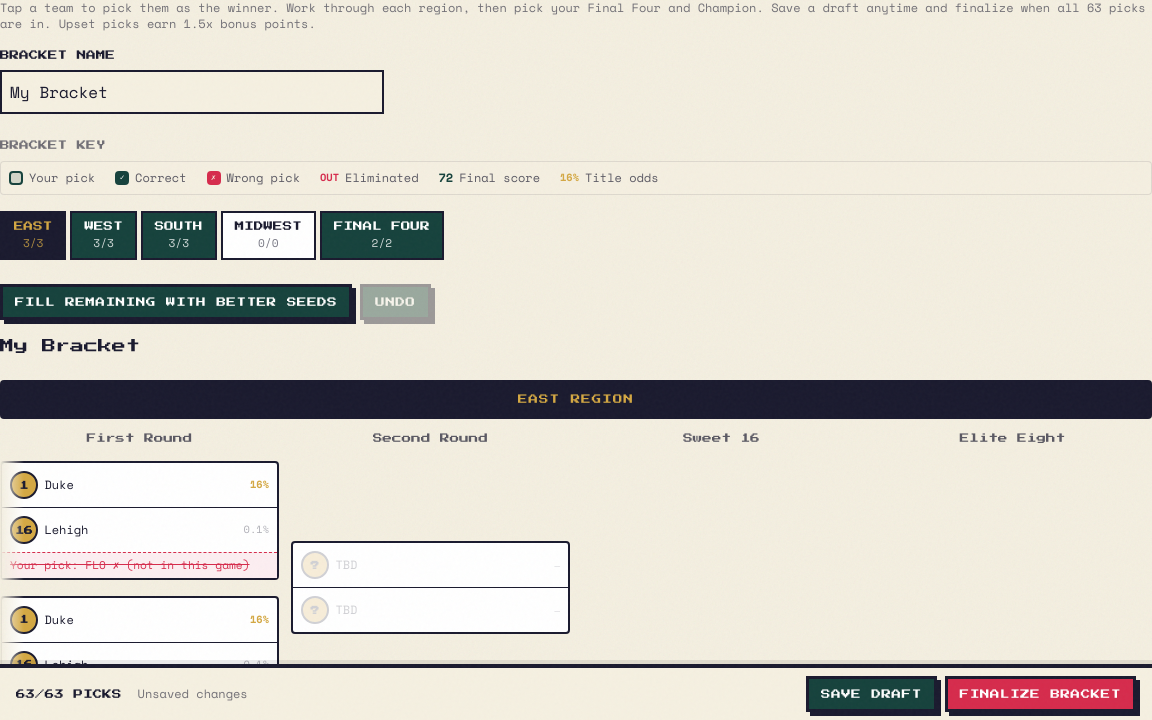
Test case: BracketBuilder › Finalize button opens confirmation dialog instead of saving directly
This screenshot has width=1152, height=720.
Click the button "Finalize Bracket" at (1040, 694), box [945,676,1136,712]
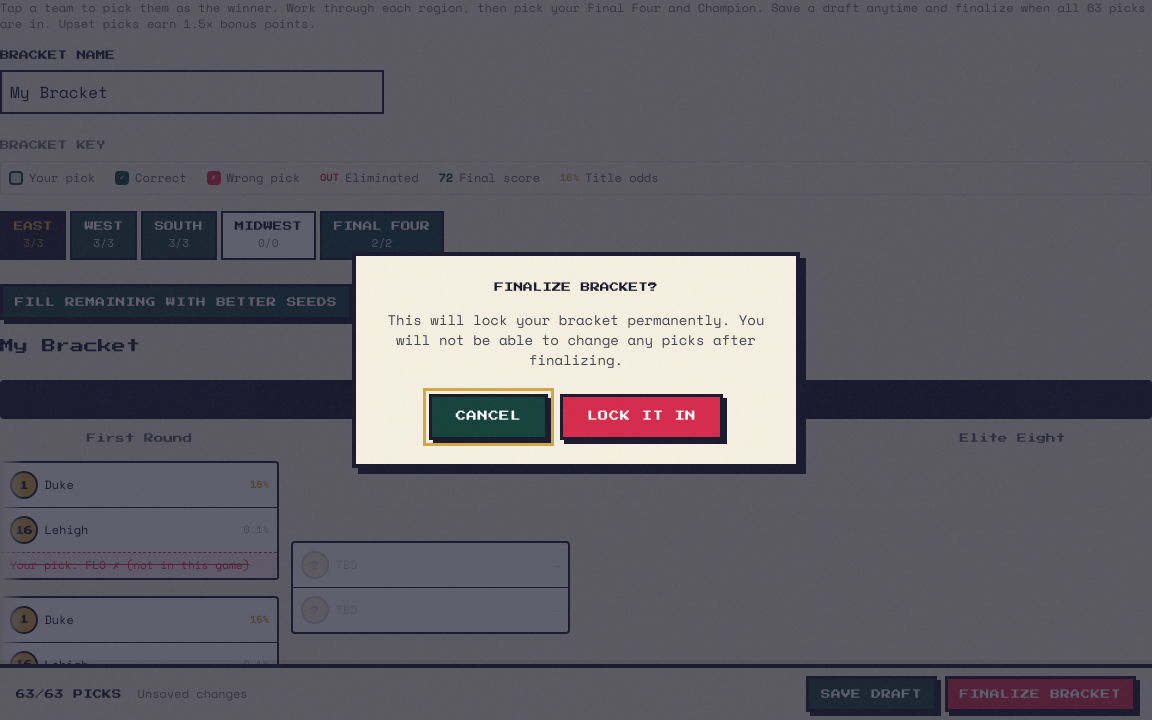
Now the heading "FINALIZE BRACKET?" is shown, box [494,282,658,292]
Now the text "lock your bracket permanently" is shown, box [388,309,764,370]
